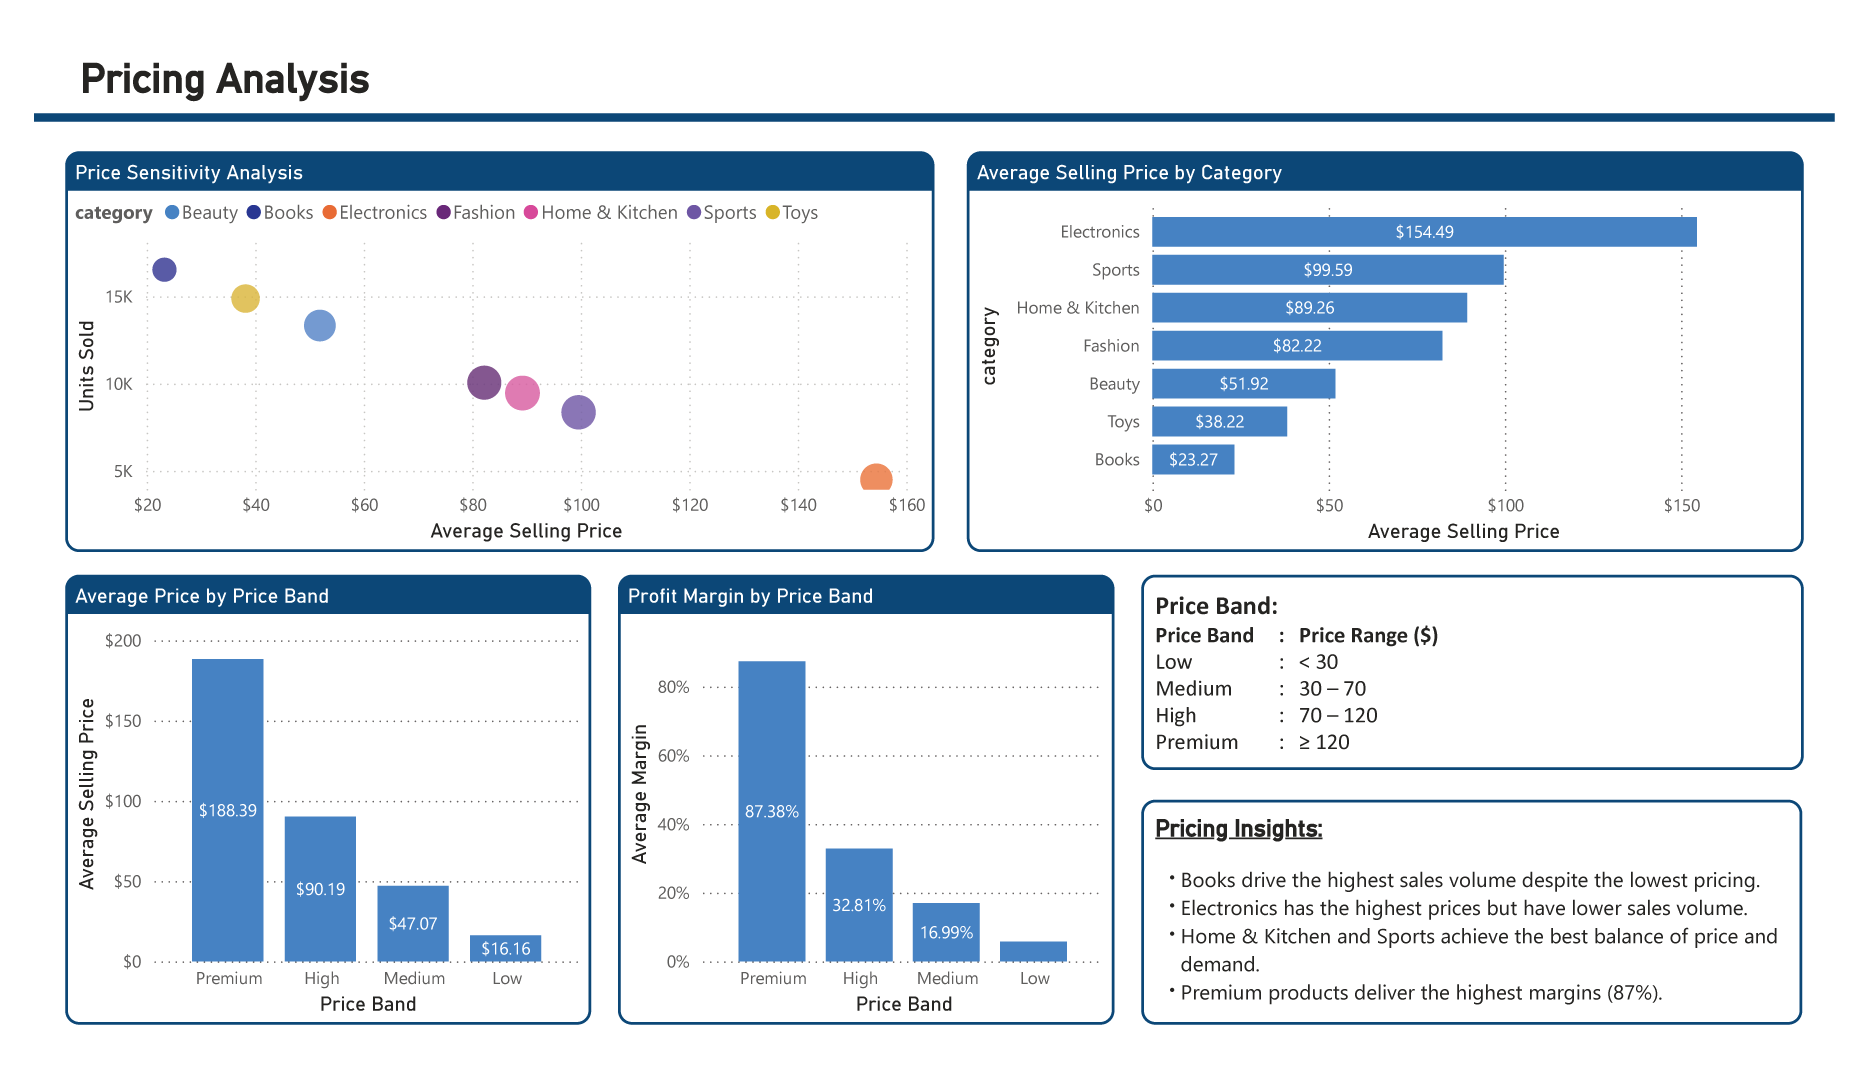

What the dashboard file says about the page in this screenshot:
{"tool":"powerbi","page":{"name":"2 - Pricing Analysis","canvas":[1280,720],"ordinal":1},"visuals":[{"type":"textbox","box":[28.2,9.1,859.1,50],"z":0},{"type":"shape","box":[0,46,1280,26],"z":1000},{"type":"textbox","box":[787.3,543.6,470,160],"z":2000},{"type":"clusteredColumnChart","title":"Profit Margin by Price Band","fields":{"Category":["products.Price Band"],"Y":["Measures_Table.Pricing - Average Margin"]},"box":[415.5,383.6,352.7,320],"z":3000},{"type":"scatterChart","title":"Price Sensitivity Analysis","fields":{"Category":["products.category"],"X":["Measures_Table.Pricing - Average Selling Price"],"Y":["Measures_Table.Product - Units Sold"],"Series":["products.category"],"Size":["Measures_Table.KPI - Total_profit"]},"box":[22,83,618,285],"z":4000},{"type":"clusteredBarChart","title":"Average Selling Price by Category","fields":{"Category":["products.category"],"Y":["Measures_Table.Pricing - Average Selling Price"]},"box":[663,83,595,285],"z":5000},{"type":"clusteredColumnChart","title":"Average Price by Price Band","fields":{"Y":["Measures_Table.Pricing - Average Selling Price"],"Category":["products.Price Band"]},"box":[21.8,383.6,374.5,320],"z":6000},{"type":"textbox","box":[787.3,383.6,470.9,139.1],"z":7000}]}

Visuals, with their boxes in screenshot pixels (x1, y1, x2, y2), scaled from the page's 1280x720 canvas onto the 1868x1080 screenshot:
textbox: Rect(41, 14, 1295, 89)
shape: Rect(0, 69, 1867, 108)
textbox: Rect(1149, 815, 1835, 1055)
"Profit Margin by Price Band" clusteredColumnChart: Rect(606, 575, 1121, 1055)
"Price Sensitivity Analysis" scatterChart: Rect(32, 124, 934, 552)
"Average Selling Price by Category" clusteredBarChart: Rect(968, 124, 1836, 552)
"Average Price by Price Band" clusteredColumnChart: Rect(32, 575, 578, 1055)
textbox: Rect(1149, 575, 1836, 784)
